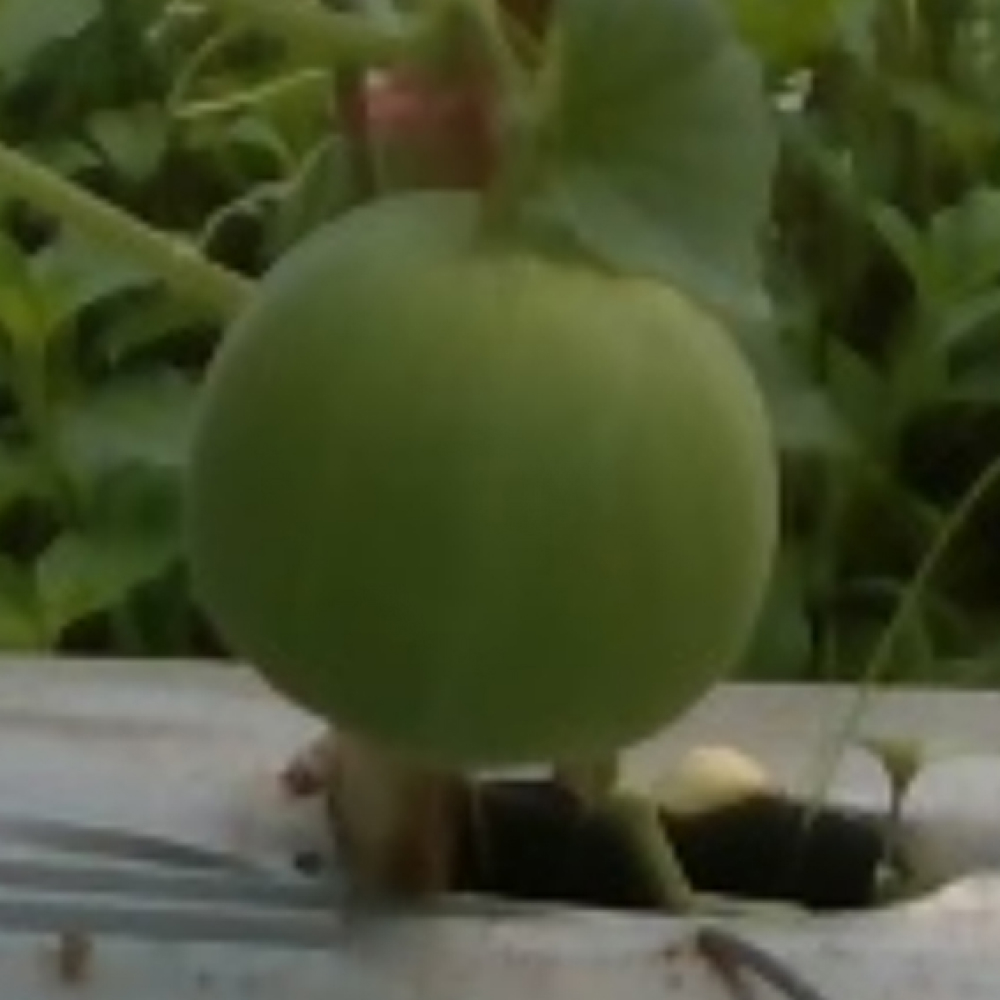melon: (182, 179, 787, 765)
